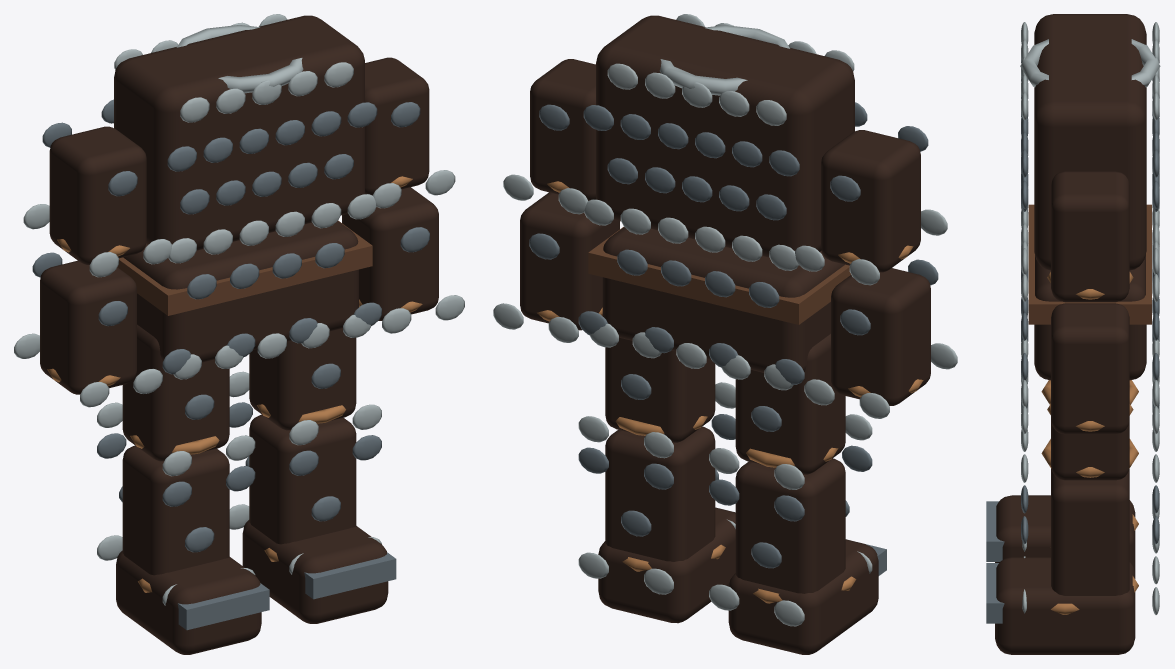
File: armor-scalemail.glb
3 views of the same model, side by side, from view 1: azimuth 30°, elevation 25°; view 2: azimuth 150°, elevation 25°; view 3: azimuth 270°, elevation 25° (orthographic). The views are drawn at different scales.
Visible parts, largest first — view 1: scale-limb-underlayer (×8), scale-mail-underlayer, leather-boot (×2), scale-mail-waist-base, scale-mail-belt, boot-toe-cap (×2), scale-mail-neckline; view 2: scale-limb-underlayer (×8), scale-mail-underlayer, scale-mail-waist-base, leather-boot (×2), scale-mail-belt, scale-mail-neckline; view 3: scale-limb-underlayer (×4), scale-mail-underlayer, leather-boot (×2), scale-mail-waist-base, scale-mail-belt, boot-toe-cap (×2), scale-limb-hem (×4), scale-mail-neckline.
Part boxes in pixels (box(x1,y1,x2,y2)): scale-limb-underlayer (×8): box(40, 57, 438, 575); scale-mail-underlayer: box(114, 15, 364, 250); leather-boot (×2): box(116, 520, 388, 654); scale-mail-waist-base: box(123, 221, 358, 362); scale-mail-belt: box(117, 220, 372, 315); boot-toe-cap (×2): box(177, 552, 396, 630); scale-mail-neckline: box(176, 25, 303, 93); scale-limb-underlayer (×8): box(520, 59, 930, 593); scale-mail-underlayer: box(596, 15, 854, 257); scale-mail-waist-base: box(602, 227, 844, 372); leather-boot (×2): box(598, 507, 878, 654); scale-mail-belt: box(588, 227, 851, 324); scale-mail-neckline: box(659, 25, 789, 95); scale-limb-underlayer (×4): box(1051, 171, 1129, 595); scale-mail-underlayer: box(1034, 14, 1146, 270); leather-boot (×2): box(995, 495, 1135, 654); scale-mail-waist-base: box(1034, 254, 1146, 380); scale-mail-belt: box(1028, 204, 1151, 324); boot-toe-cap (×2): box(986, 501, 1004, 623); scale-limb-hem (×4): box(1041, 272, 1138, 477); scale-mail-neckline: box(1020, 39, 1160, 87).
Bounding box in the file's own units: 0.7904 × 1.08 × 0.31.
